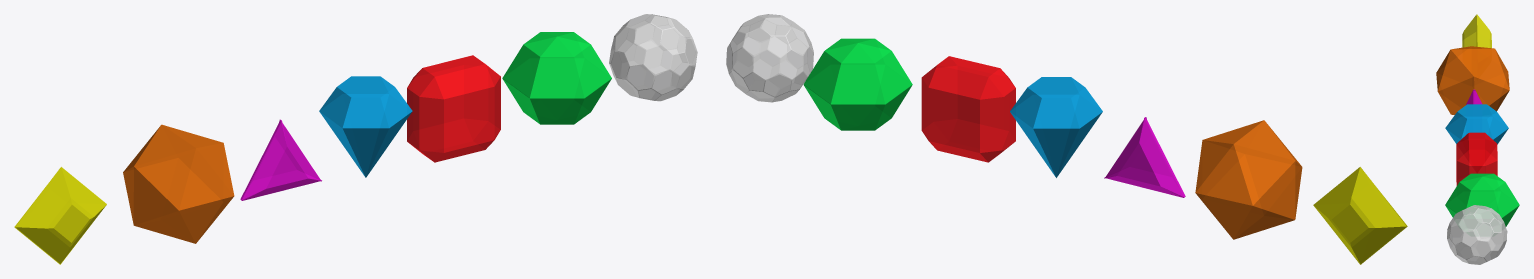
Rendered from gems_from_bejeweled_v2_unfinished.glb.
The picture shows the model from 3 angles, left to right: view 1: azimuth 30°, elevation 25°; view 2: azimuth 150°, elevation 25°; view 3: azimuth 270°, elevation 25°; orthographic projection. The views are drawn at different scales.
Parts seen in each view (by area): view 1: Icosphere_6, ruby_0, Sphere_8, white_5, diamond_3, Cube_7, violet_4; view 2: Icosphere_6, ruby_0, Sphere_8, white_5, diamond_3, Cube_7, violet_4; view 3: Icosphere_6, white_5, Sphere_8, ruby_0, diamond_3, Cube_7, violet_4.
Part boxes in pixels (x1,y1,x2,y2): Icosphere_6: [123, 124, 234, 243]; ruby_0: [407, 55, 500, 162]; Sphere_8: [502, 32, 611, 124]; white_5: [609, 14, 697, 101]; diamond_3: [319, 76, 412, 177]; Cube_7: [14, 167, 106, 264]; violet_4: [240, 119, 321, 200]; Icosphere_6: [1195, 120, 1302, 239]; ruby_0: [921, 56, 1015, 162]; Sphere_8: [803, 38, 912, 130]; white_5: [726, 14, 813, 102]; diamond_3: [1010, 77, 1102, 177]; Cube_7: [1313, 167, 1407, 264]; violet_4: [1104, 117, 1185, 197]; Icosphere_6: [1436, 46, 1509, 114]; white_5: [1447, 205, 1507, 264]; Sphere_8: [1445, 173, 1519, 226]; ruby_0: [1456, 132, 1497, 185]; diamond_3: [1445, 104, 1508, 144]; Cube_7: [1462, 14, 1491, 48]; violet_4: [1466, 89, 1481, 104].
Bounding box in the file's own units: 1.58 × 0.2304 × 0.2474.
